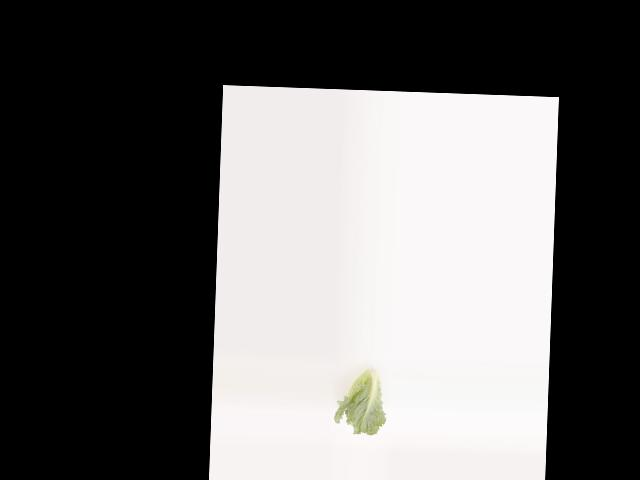lettuce: (336, 359, 389, 438)
